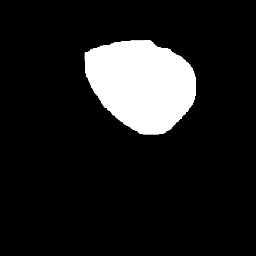mass: (89, 37, 193, 133)
